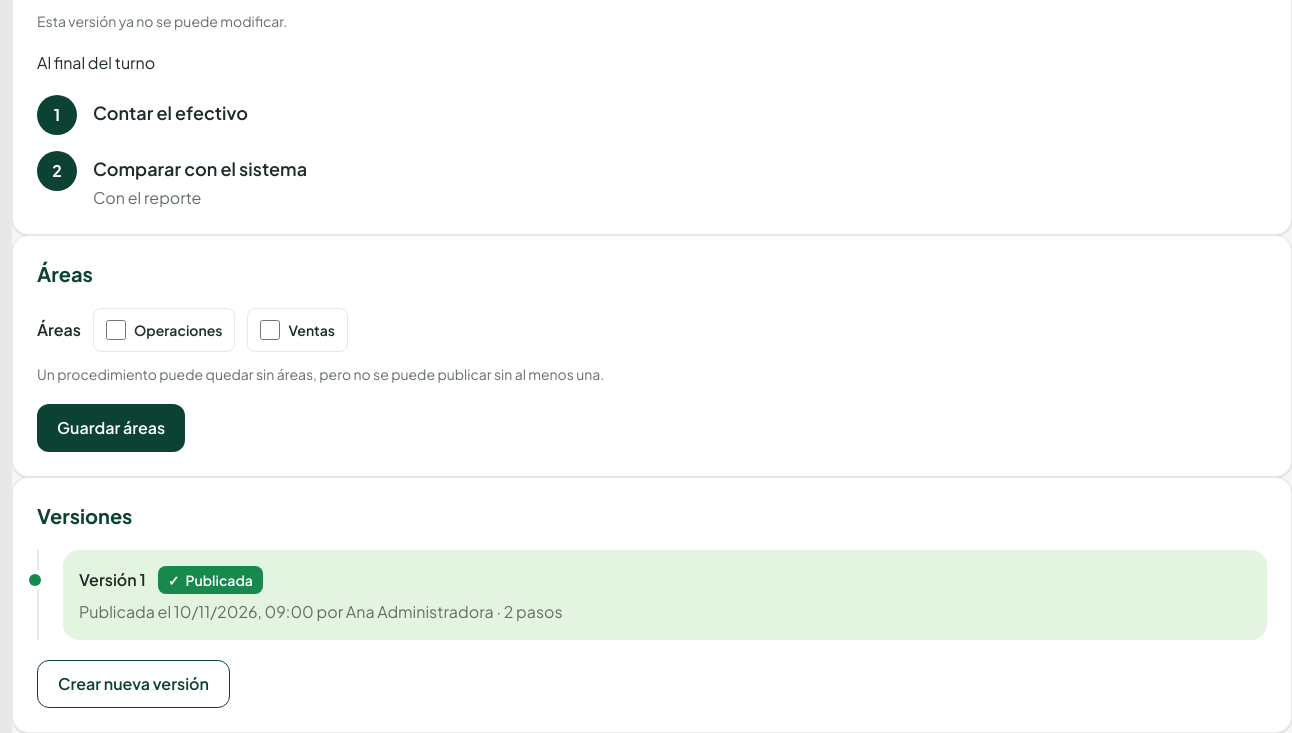
it: a version that is no longer a draft (spec 015, R6 and R7) › "Crear nueva versión" shows the new draft, which can be edited and published
(page scrolled)
Click the button "Crear nueva versión".
click(133, 684)  # box x1=37 y1=660 x2=230 y2=708
(page scrolled)
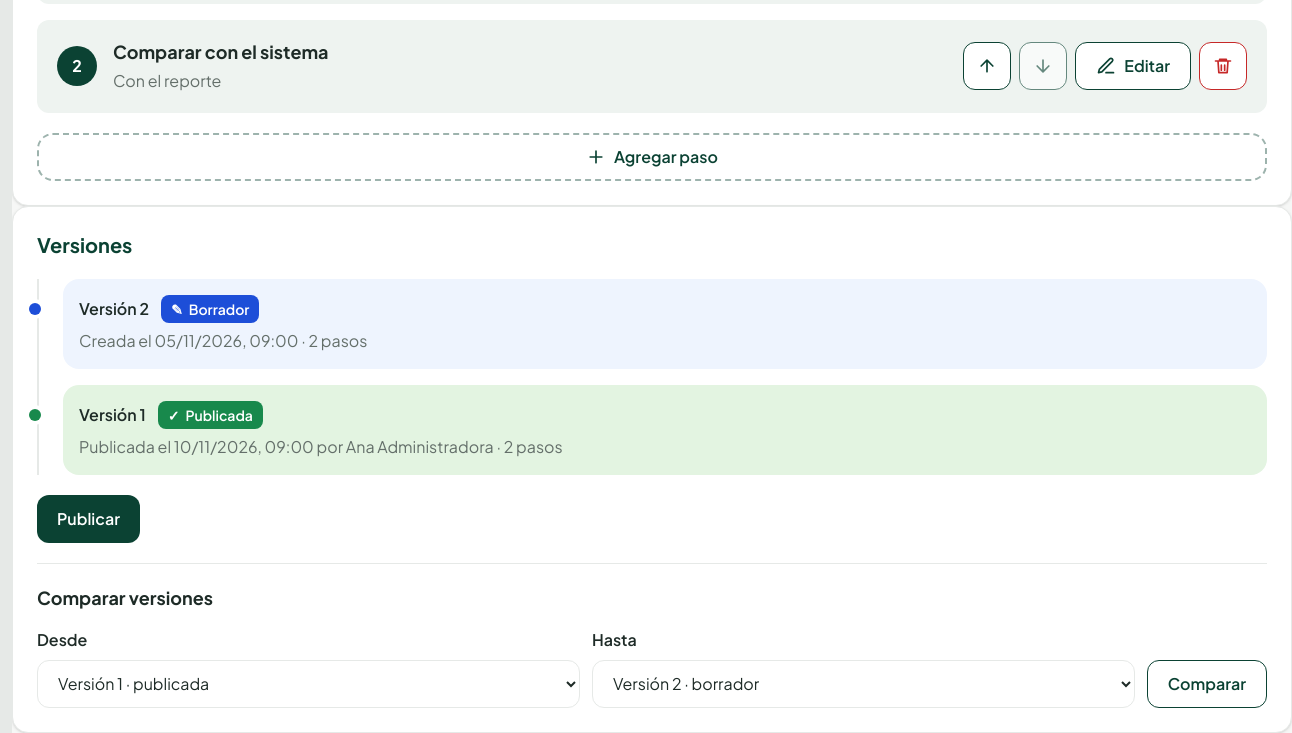
Expected: the button "Publicar" is shown, x1=37 y1=495 x2=140 y2=543
